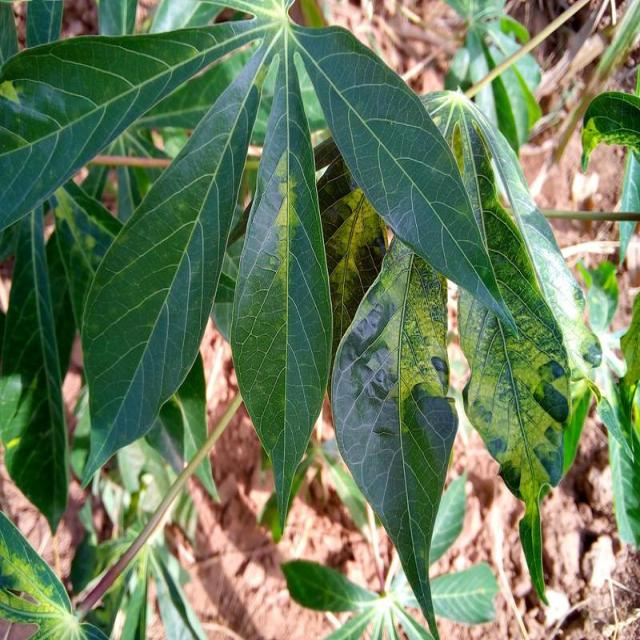cassava leaf: (1, 2, 603, 634), (78, 24, 271, 490), (228, 33, 334, 537), (330, 232, 459, 637)
